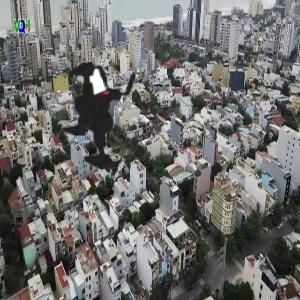drone: (19, 28, 198, 207)
